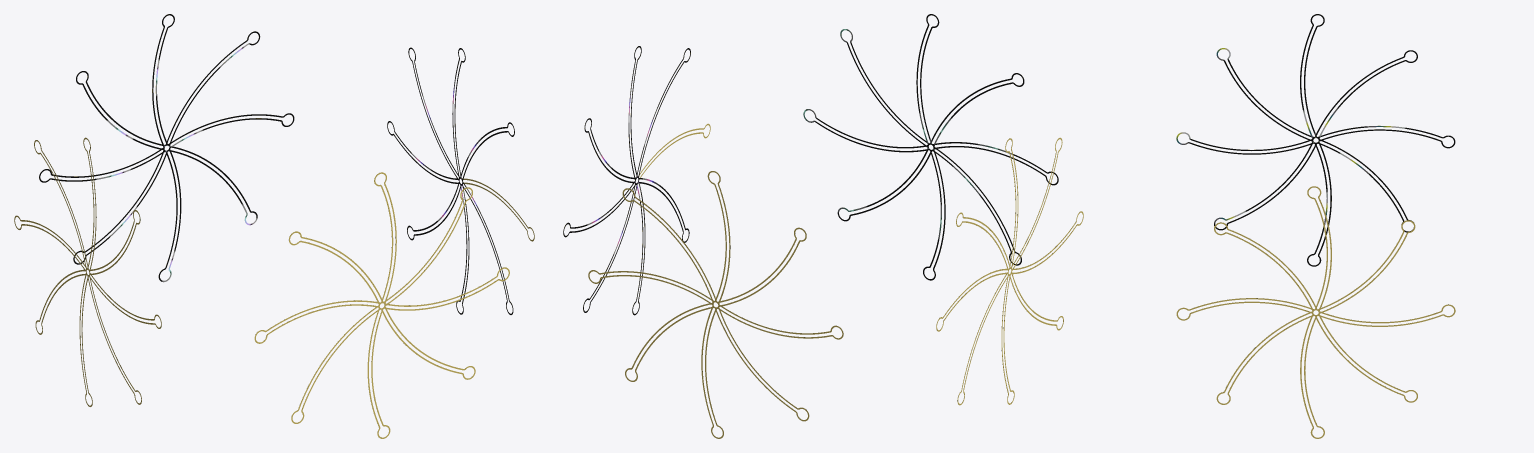
3 views of the same model, side by side, from view 1: azimuth 30°, elevation 25°; view 2: azimuth 150°, elevation 25°; view 3: azimuth 270°, elevation 25° (orthographic). The views are drawn at different scales.
Visible parts, largest first — view 1: CUBE, UVSCROLL; view 2: CUBE, UVSCROLL; view 3: CUBE, UVSCROLL.
Boxes of the visible parts, x1,y1,x2,y2 form: CUBE: (14,56,534,438); UVSCROLL: (20,14,514,393); CUBE: (564,34,1083,438); UVSCROLL: (563,14,1079,409); CUBE: (1176,64,1455,438); UVSCROLL: (1176,14,1455,386).
Bounding box in the file's own units: 7.89 × 5.4 × 7.89.
2 materials, 1 textured.
